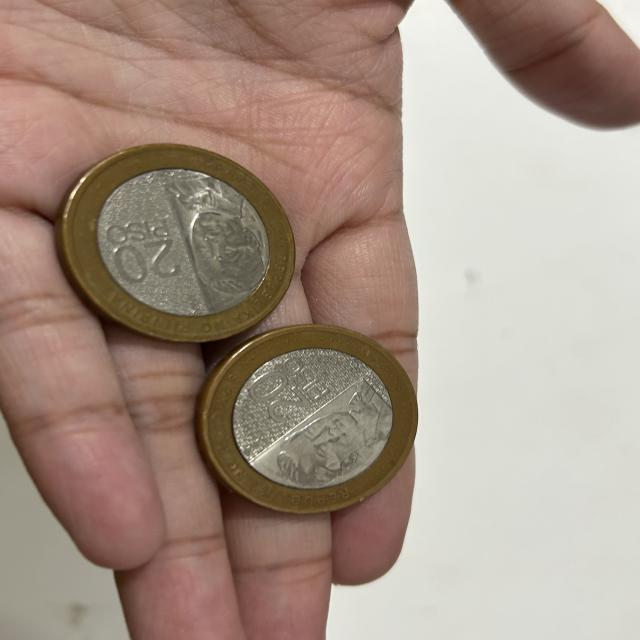20_New_Front: (108, 217, 190, 288), (250, 354, 329, 422)
